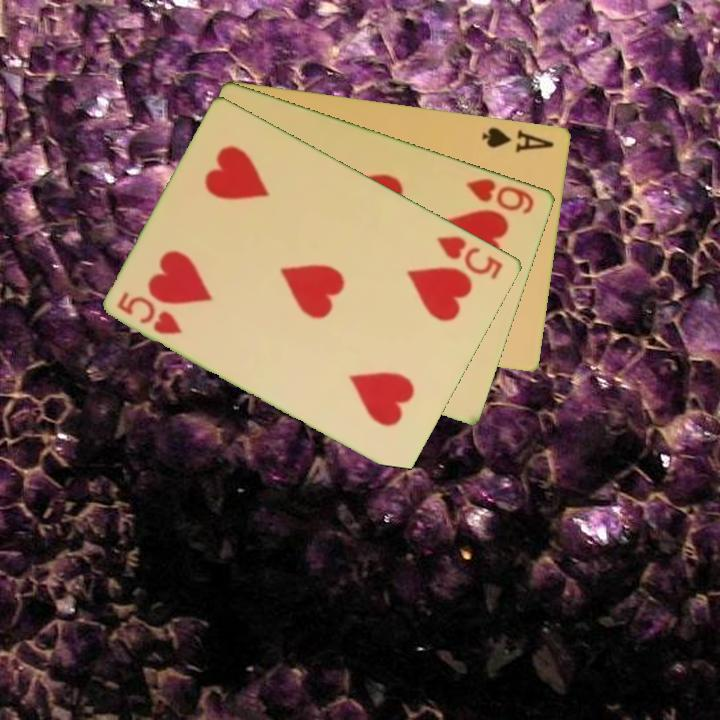5h: (433, 232, 507, 283), (114, 287, 186, 338)
6h: (462, 174, 538, 217)
As: (479, 123, 557, 155)
